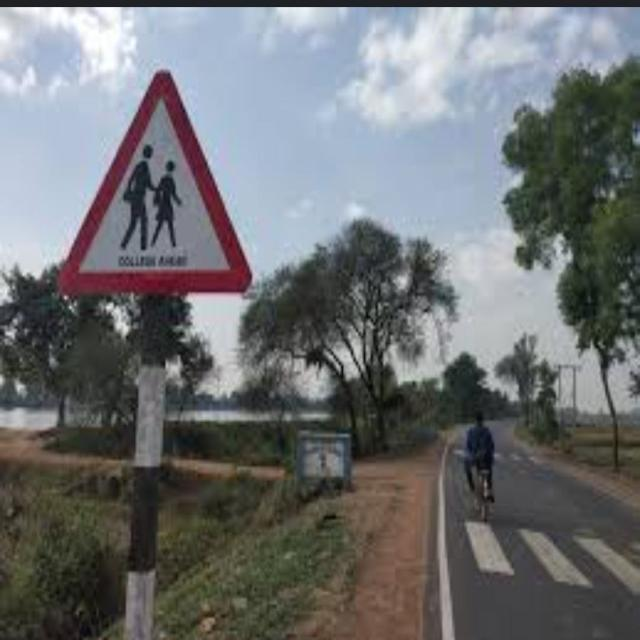school ahead: (53, 67, 255, 299)
